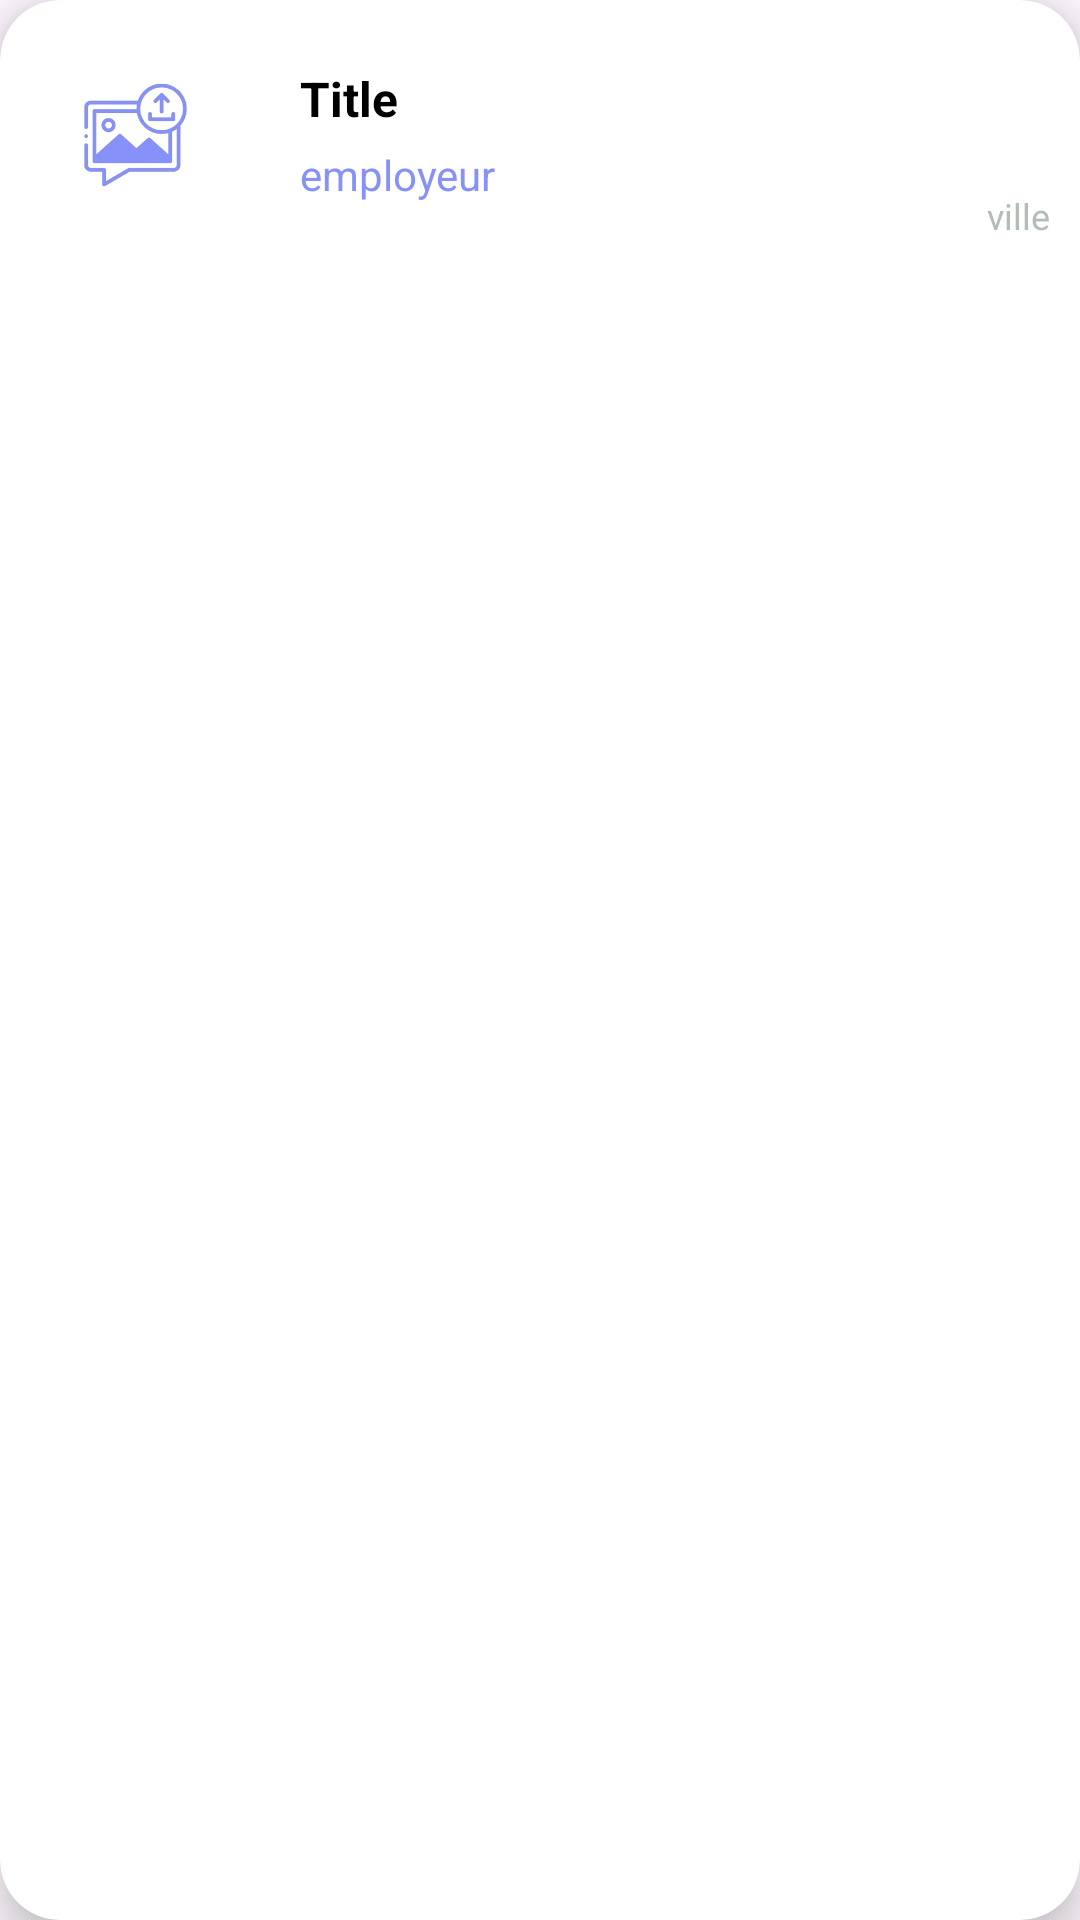

Where to tap for icons on this 1080px×1920px app screen, as (x=x, y=y):
uploadimg: (x=135, y=135)
